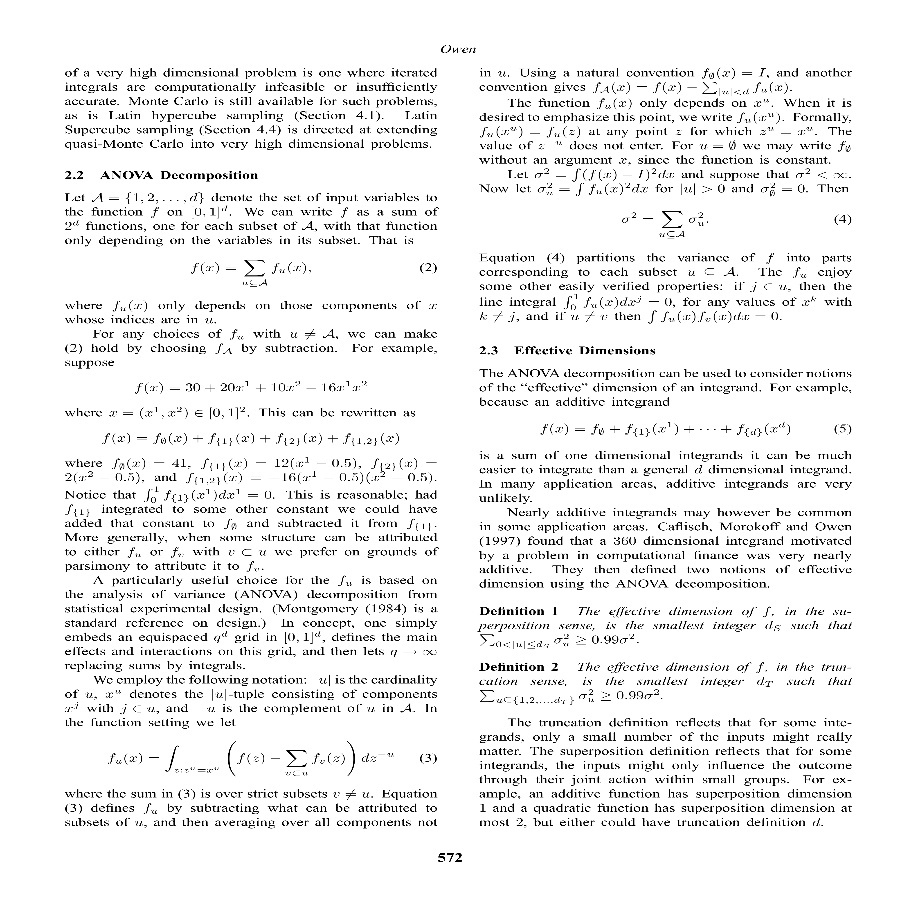eq: (109, 741, 397, 783), (129, 374, 373, 403), (101, 426, 402, 449), (538, 418, 795, 441), (187, 255, 324, 290), (617, 208, 710, 240)
